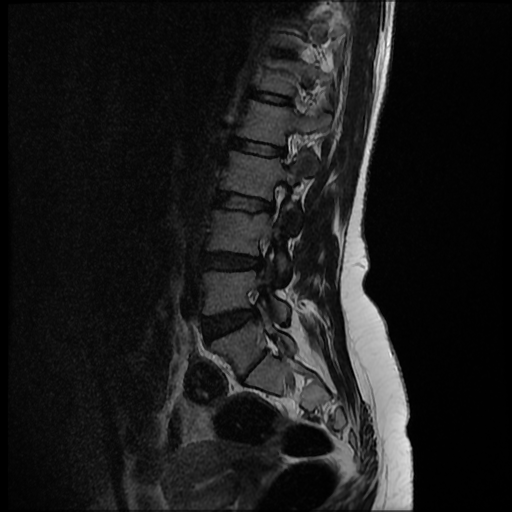RFS0: (273, 122, 311, 173), (255, 173, 293, 223)
